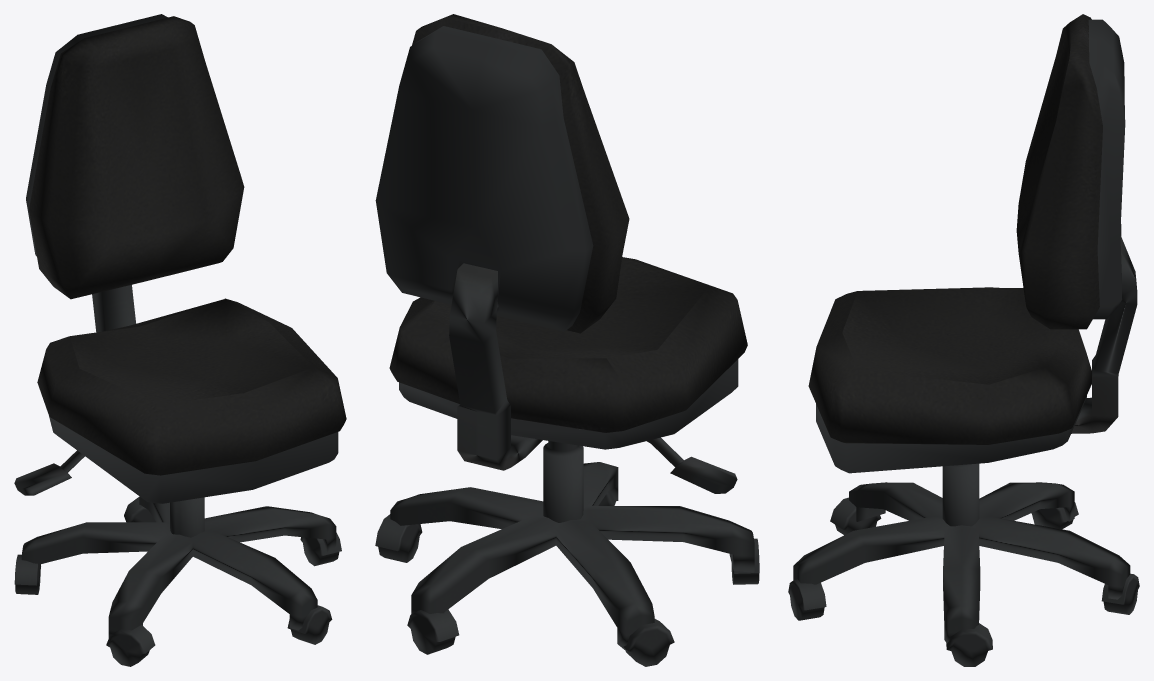
The model's file is chair.glb.
The picture shows the model from 3 angles, left to right: view 1: azimuth 30°, elevation 25°; view 2: azimuth 150°, elevation 25°; view 3: azimuth 270°, elevation 25°; orthographic projection. The views are drawn at different scales.
Parts seen in each view (by area): view 1: OfficeChair_Mesh; view 2: OfficeChair_Mesh; view 3: OfficeChair_Mesh.
Part boxes in pixels (x1=…): OfficeChair_Mesh: x1=14, y1=14, x2=346, y2=666; OfficeChair_Mesh: x1=375, y1=14, x2=759, y2=666; OfficeChair_Mesh: x1=788, y1=14, x2=1139, y2=666.
Bounding box in the file's own units: 0.6644 × 1.1 × 0.6307.
1 material, 1 textured.
